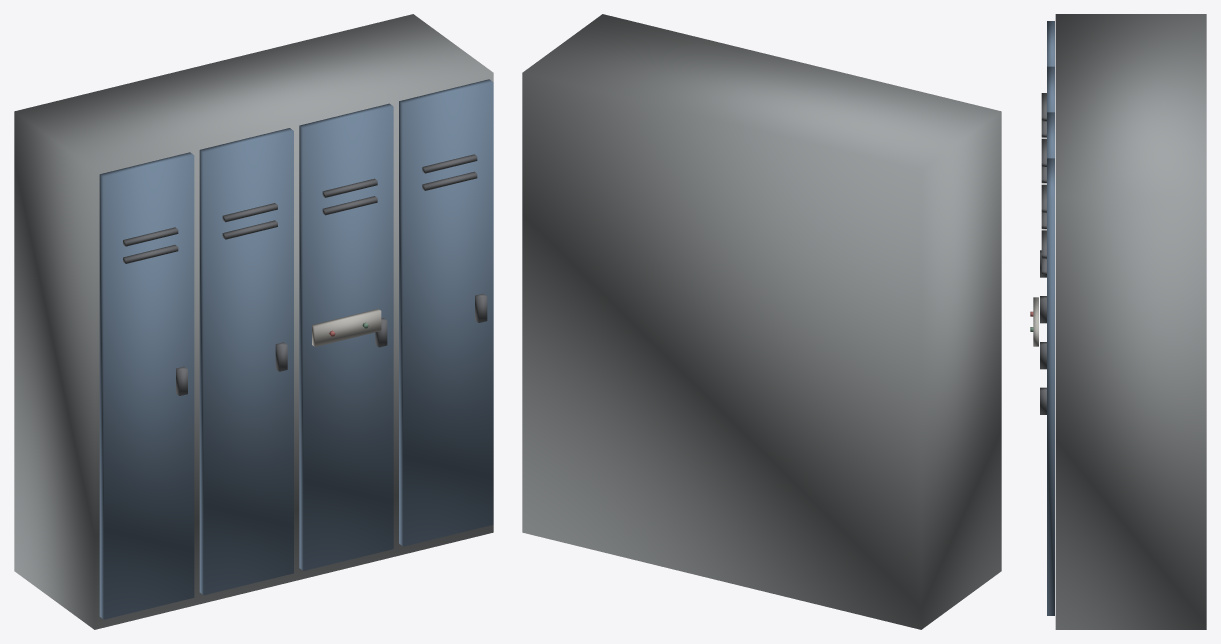
File: school_locker_bank__deep.glb
3 views of the same model, side by side, from view 1: azimuth 30°, elevation 25°; view 2: azimuth 150°, elevation 25°; view 3: azimuth 270°, elevation 25° (orthographic). The views are drawn at different scales.
Visible parts, largest first — view 1: world; view 2: world; view 3: world.
Boxes of the visible parts, x1,y1,x2,y2 form: world: [14, 14, 493, 629]; world: [522, 14, 1001, 629]; world: [1030, 14, 1206, 629].
Size of the model in its own units: 1.68 by 1.85 by 0.6844.
